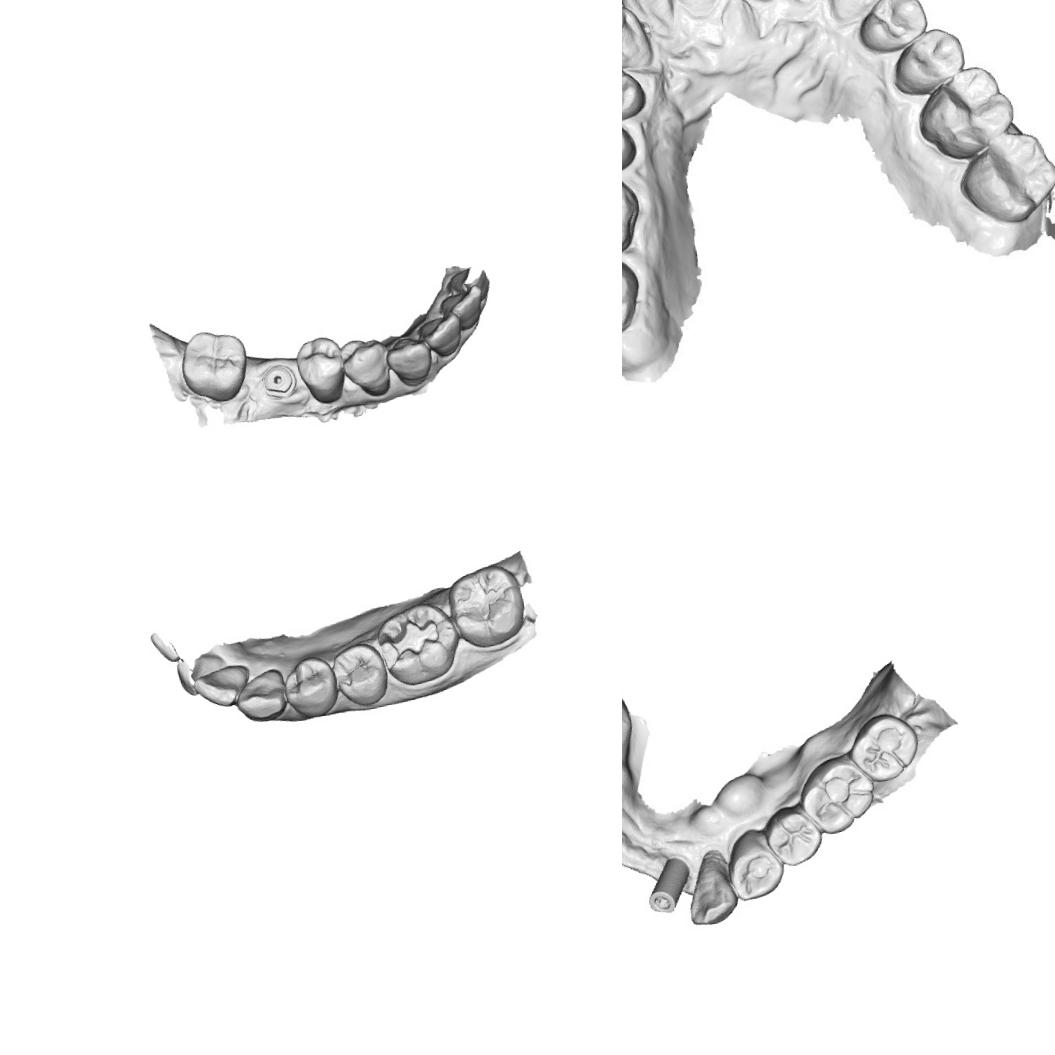canine: (682, 846, 742, 930), (383, 331, 436, 390), (232, 674, 288, 726), (622, 0, 652, 72), (822, 0, 891, 24)
implant: (641, 853, 696, 916), (258, 362, 298, 400)
incisor: (434, 284, 488, 332), (191, 664, 245, 712), (415, 314, 466, 361), (622, 0, 678, 37), (171, 651, 212, 697), (444, 264, 491, 302), (661, 0, 731, 19)
inlay: (376, 612, 446, 678)
molar: (913, 60, 1016, 164), (955, 125, 1055, 227), (443, 560, 529, 652), (794, 752, 881, 838), (176, 325, 253, 408), (844, 709, 924, 787), (622, 249, 645, 347), (622, 165, 643, 260)
premolar: (888, 29, 966, 100), (722, 824, 790, 904), (323, 638, 390, 711), (290, 333, 350, 408), (854, 0, 931, 56), (762, 802, 826, 869), (336, 334, 394, 399), (284, 654, 340, 716), (622, 54, 648, 128)
